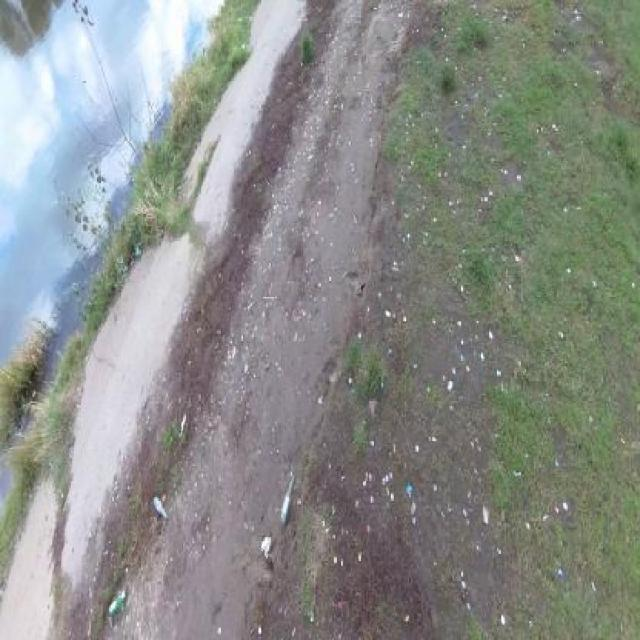Garbage: (279, 473, 295, 530), (106, 591, 127, 622), (154, 494, 168, 520), (260, 534, 271, 557)
